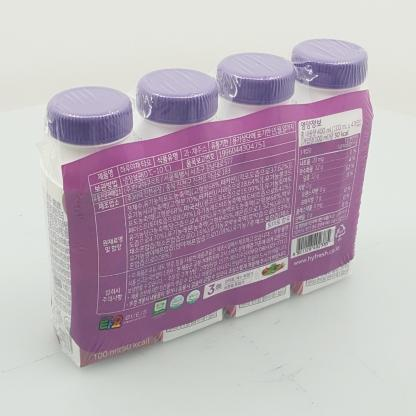-------------400ML: (36, 38, 374, 369)
